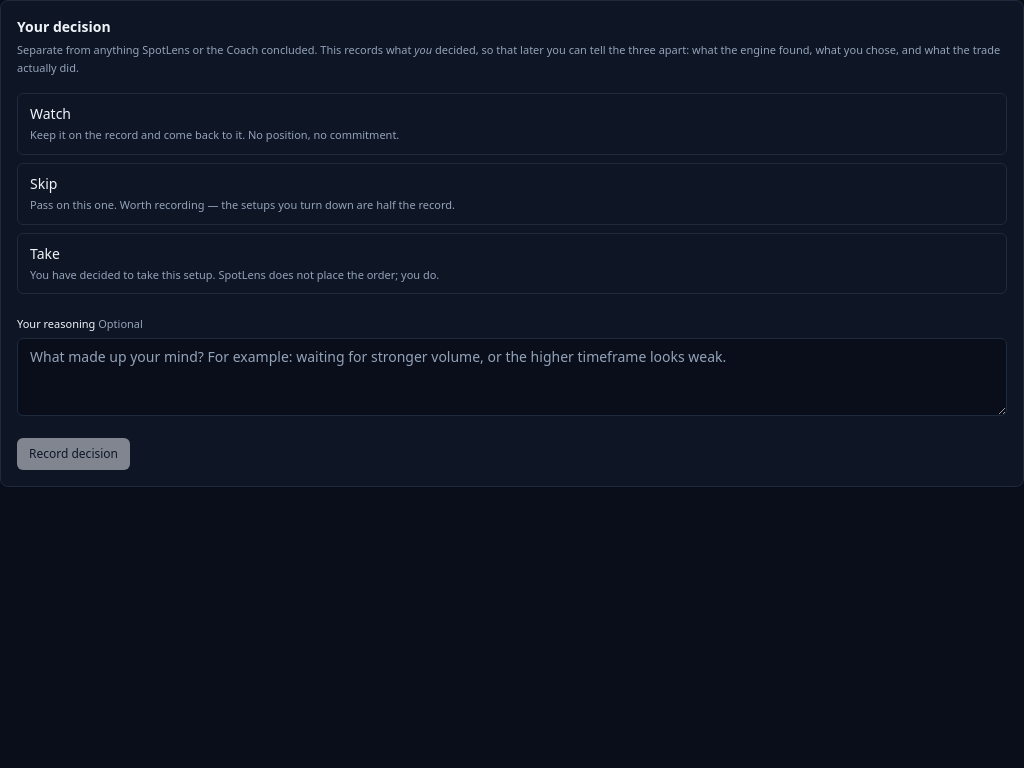
Test: take asks again, and still places nothing › says no trade was executed once recorded
Click the radio button labelled "Take" at (235, 274), box [17,232,1007,294]
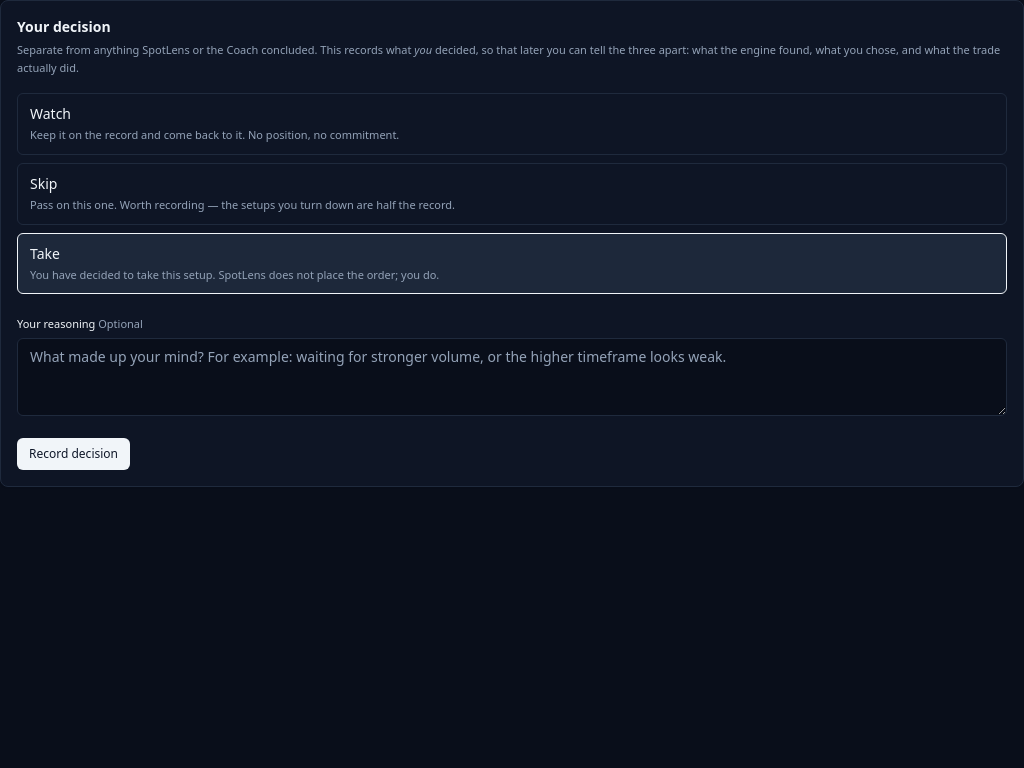
Click the button "Record decision" at (74, 454), box [17,438,130,470]
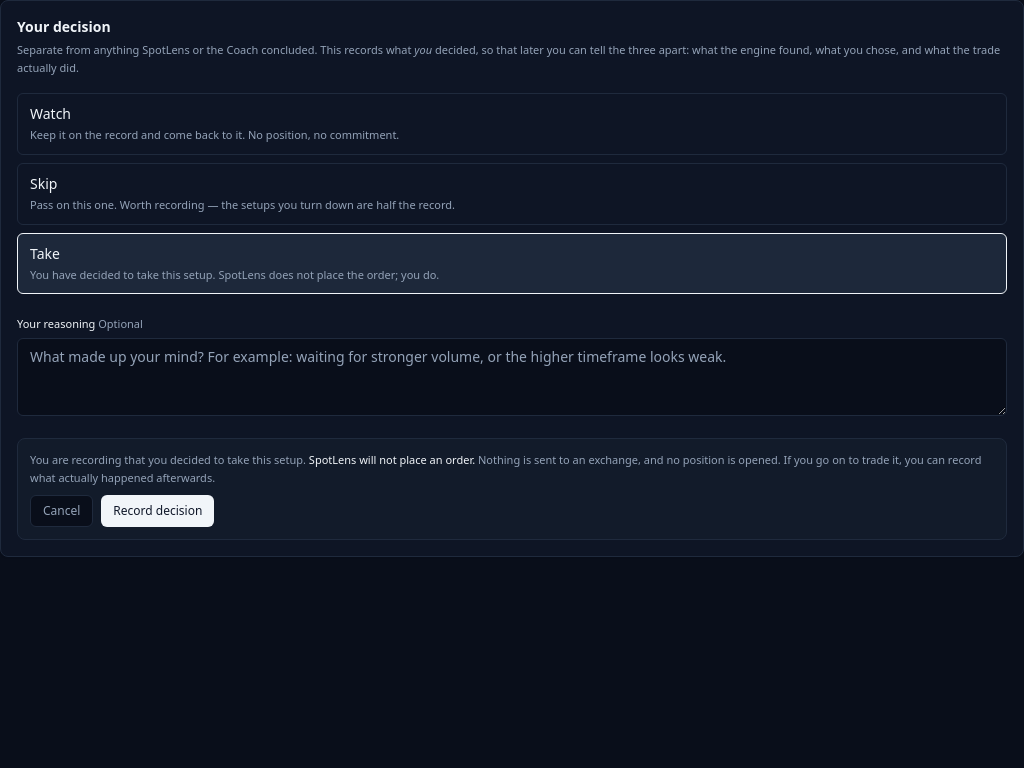
Click the button "Record decision" at (158, 511), box [101,495,214,527]
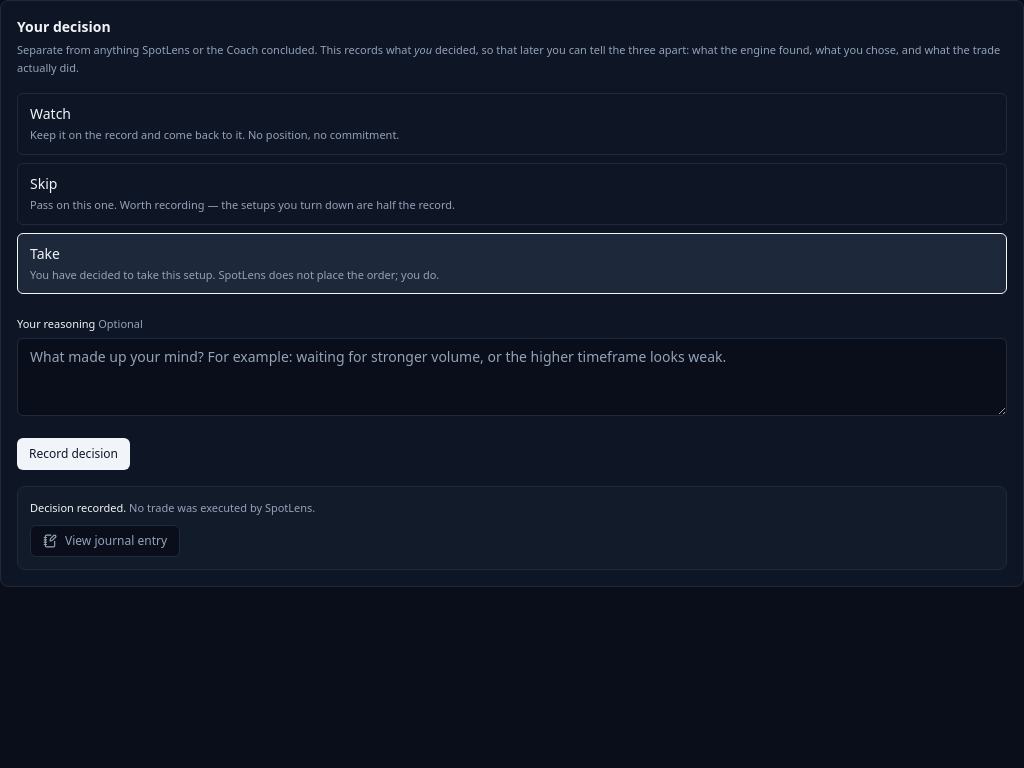
Now the text "Decision recorded. No trade was executed by SpotLens." is shown, box [30,500,315,515]
